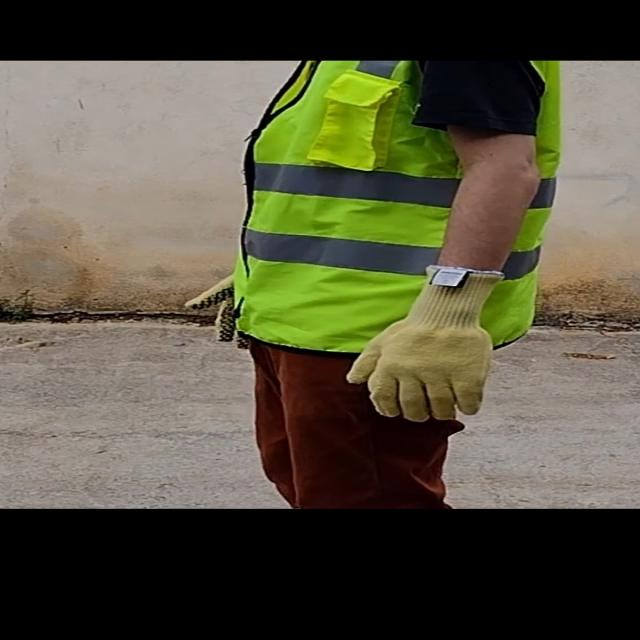glove: (339, 260, 510, 422)
pants: (249, 330, 493, 502)
vest: (220, 64, 568, 353)
